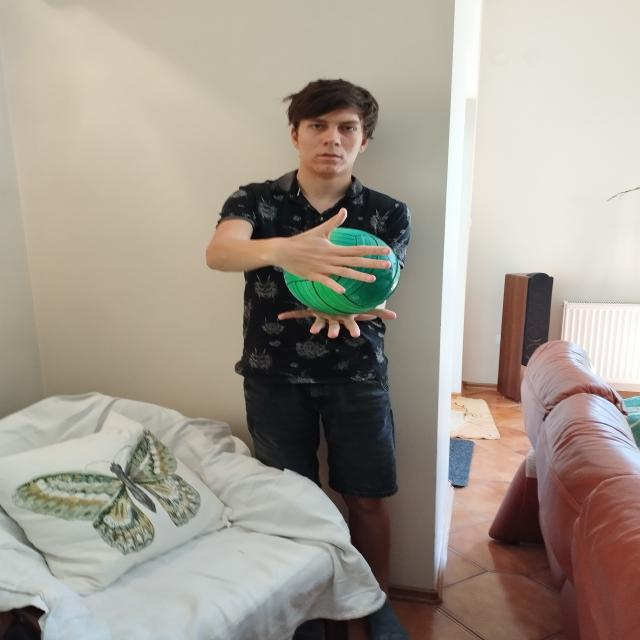zielona: (282, 225, 398, 313)
